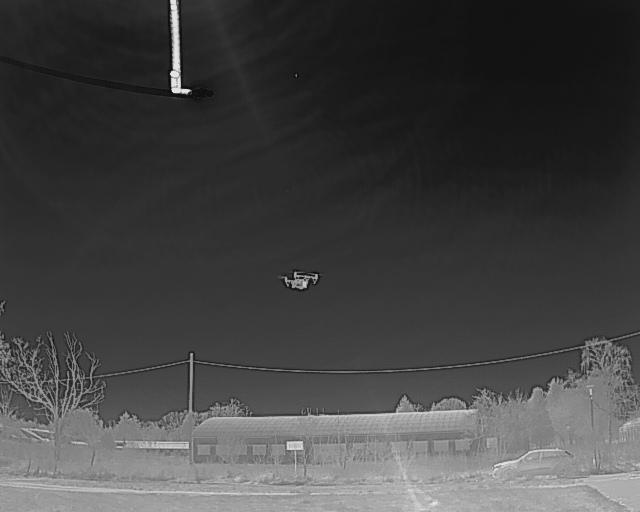drone: (275, 264, 327, 296)
